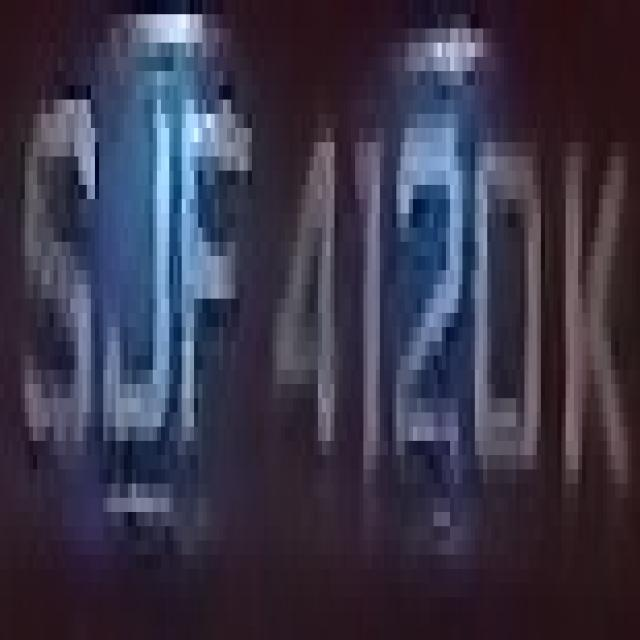0: (462, 86, 545, 540)
1: (359, 28, 388, 554)
2: (388, 114, 463, 540)
4: (276, 57, 346, 512)
F: (173, 57, 252, 483)
J: (99, 85, 178, 427)
K: (549, 114, 636, 540)
S: (21, 42, 103, 484)
